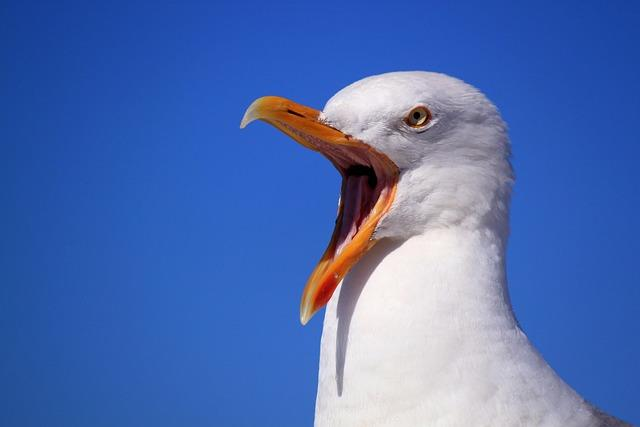Non_Gorille: (184, 20, 636, 427)
